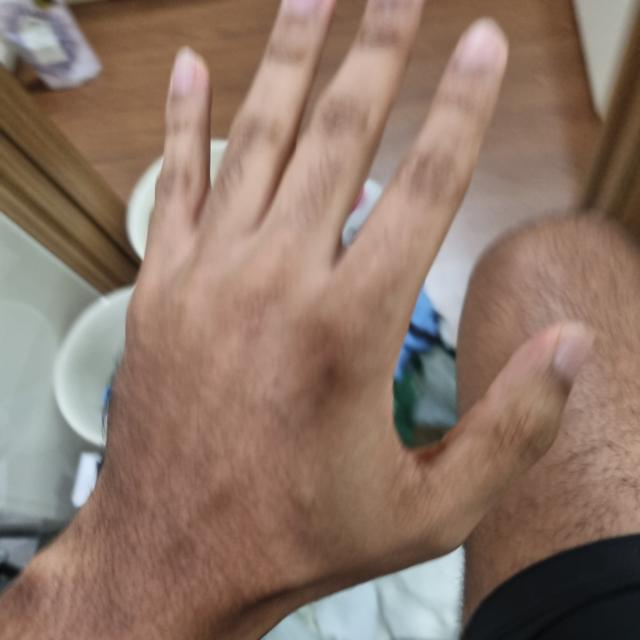Paper: (104, 6, 575, 606)
